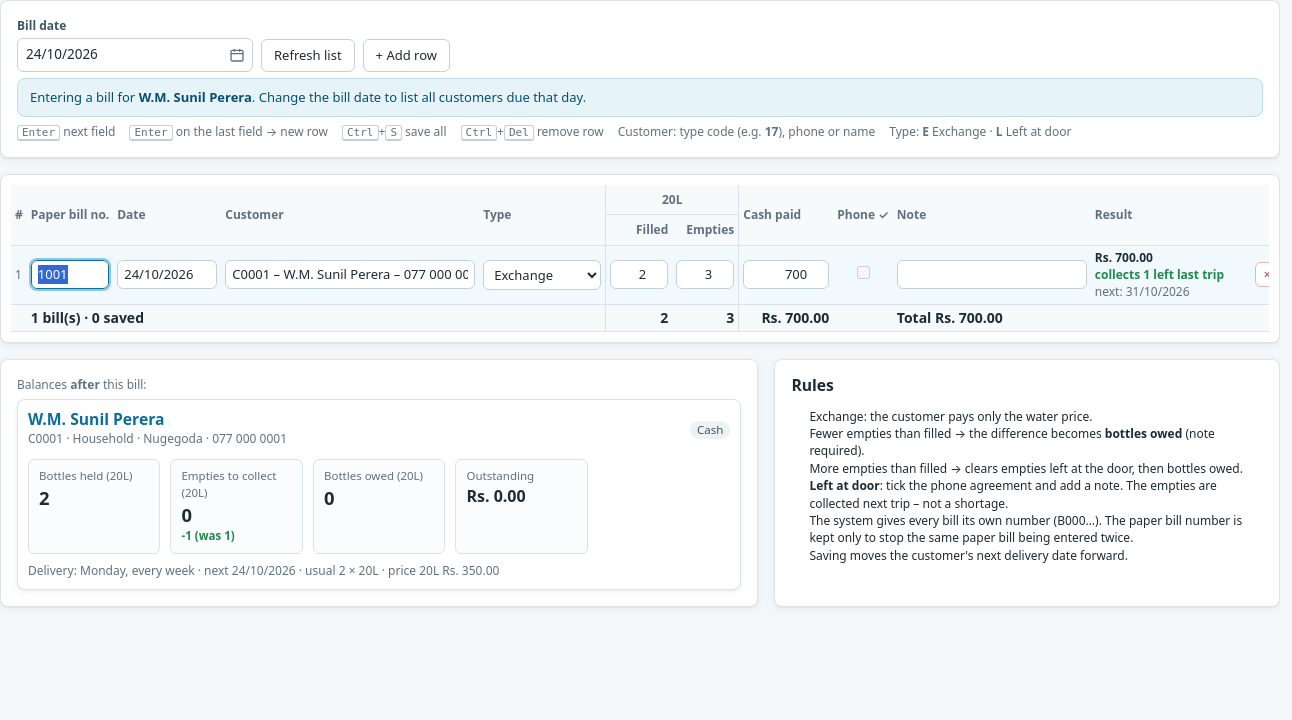
Test: Enter Bills › a customer typed by code fills the usual quantities
Expected: the field named "Customer row 1" is shown, [225, 260, 475, 289]
Click the button "+ Add row": coordinates (406, 56) [363, 39, 450, 72]
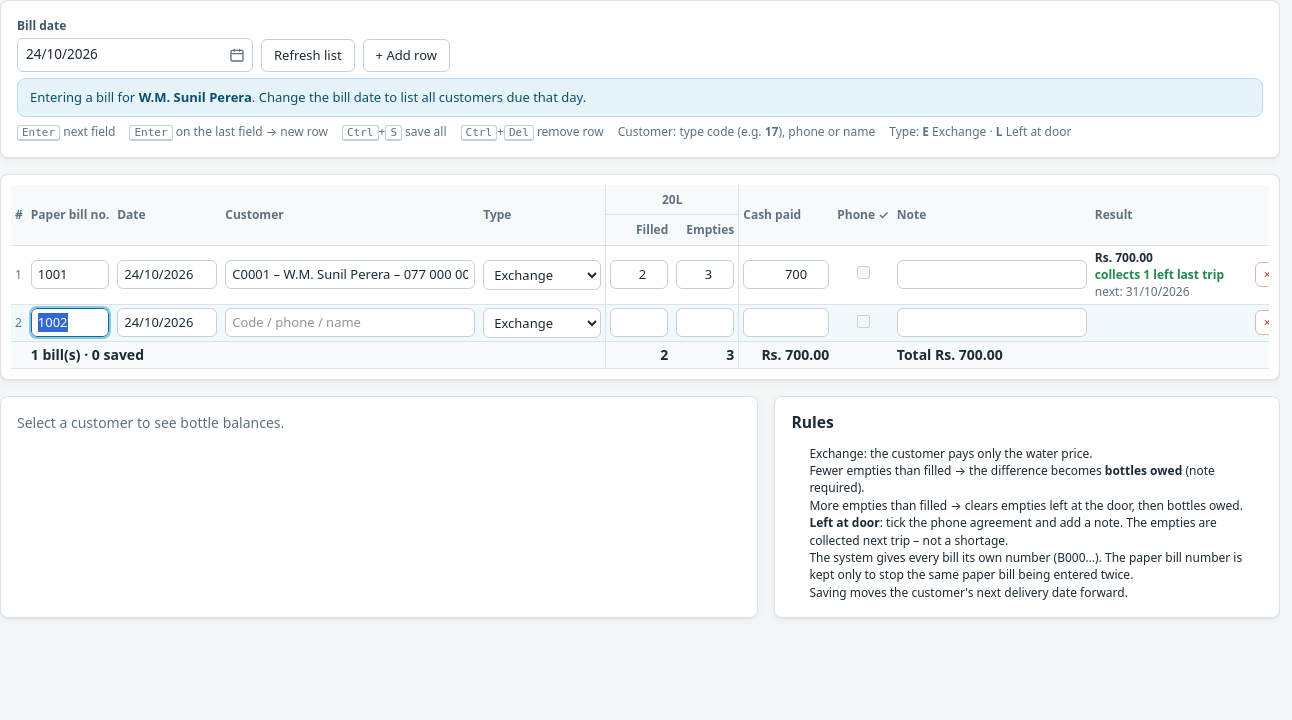
In the field named "Customer row 2": coordinates (350, 323) [225, 308, 475, 337], type "4"
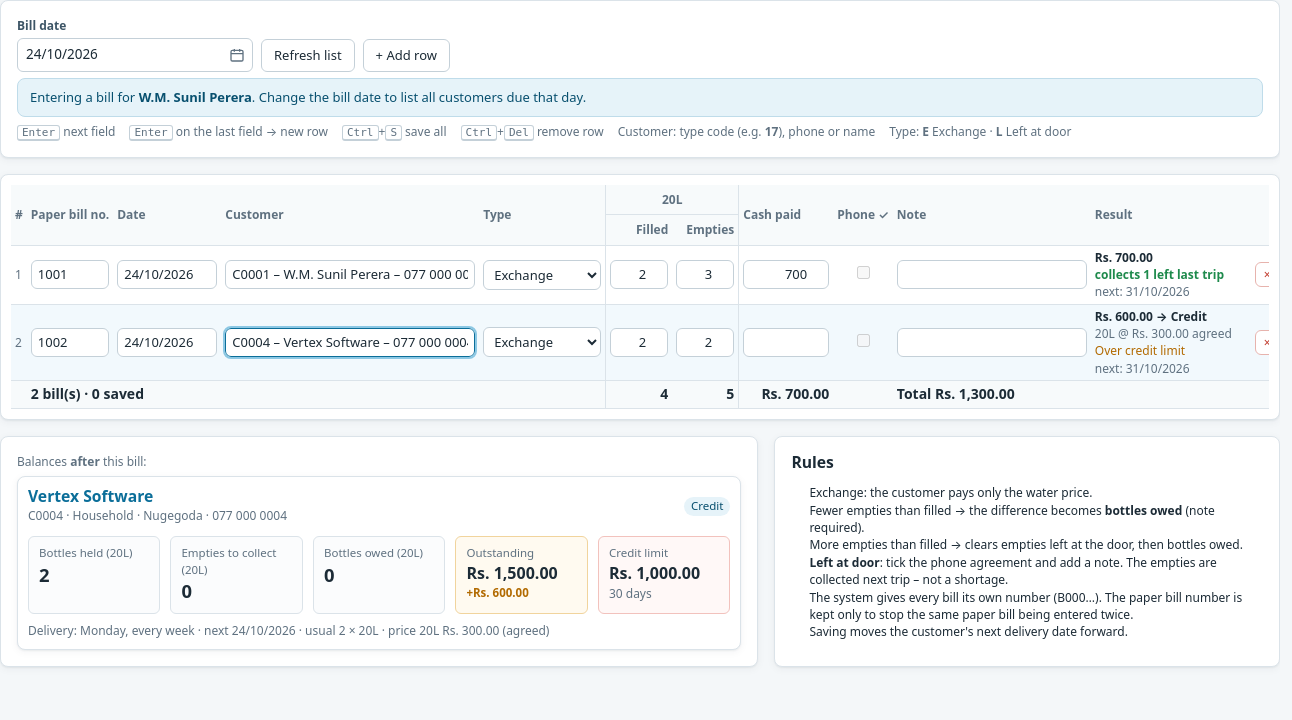
Now the field named "Customer row 2" holds "C0004 – Vertex Software – 077 000 0004", box [225, 328, 475, 357]
Now the number field named "20L filled row 2" holds "2", box [610, 328, 668, 357]
Now the number field named "20L empties row 2" holds "2", box [676, 328, 734, 357]
